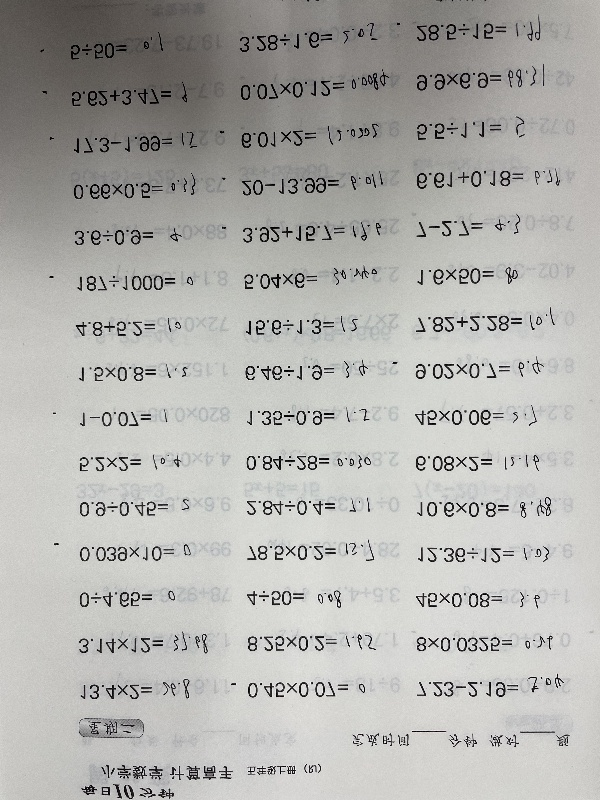equation: (235, 66, 391, 104), (415, 54, 552, 95), (237, 114, 384, 152), (237, 18, 383, 56), (239, 257, 383, 294), (69, 165, 202, 205), (411, 161, 566, 195), (238, 167, 387, 200), (239, 213, 386, 246), (414, 106, 530, 145), (411, 310, 557, 340), (412, 676, 566, 704), (413, 14, 546, 46), (72, 262, 196, 296), (63, 24, 168, 64), (412, 497, 554, 526), (75, 628, 211, 658), (64, 79, 196, 109), (240, 355, 371, 385), (243, 537, 378, 566), (73, 126, 201, 156), (411, 401, 540, 430), (410, 358, 546, 385), (69, 218, 183, 250), (412, 585, 546, 612), (408, 212, 524, 243), (242, 632, 378, 657), (75, 676, 192, 705), (414, 543, 553, 567), (411, 634, 555, 657), (241, 406, 372, 431), (227, 679, 369, 702), (411, 452, 543, 476), (241, 315, 360, 341), (242, 452, 375, 475), (74, 543, 194, 567), (74, 498, 192, 522), (71, 317, 184, 342), (73, 584, 181, 610), (74, 363, 190, 387), (412, 266, 521, 290), (74, 453, 183, 477), (243, 587, 345, 612), (75, 408, 170, 432), (243, 497, 338, 520)
